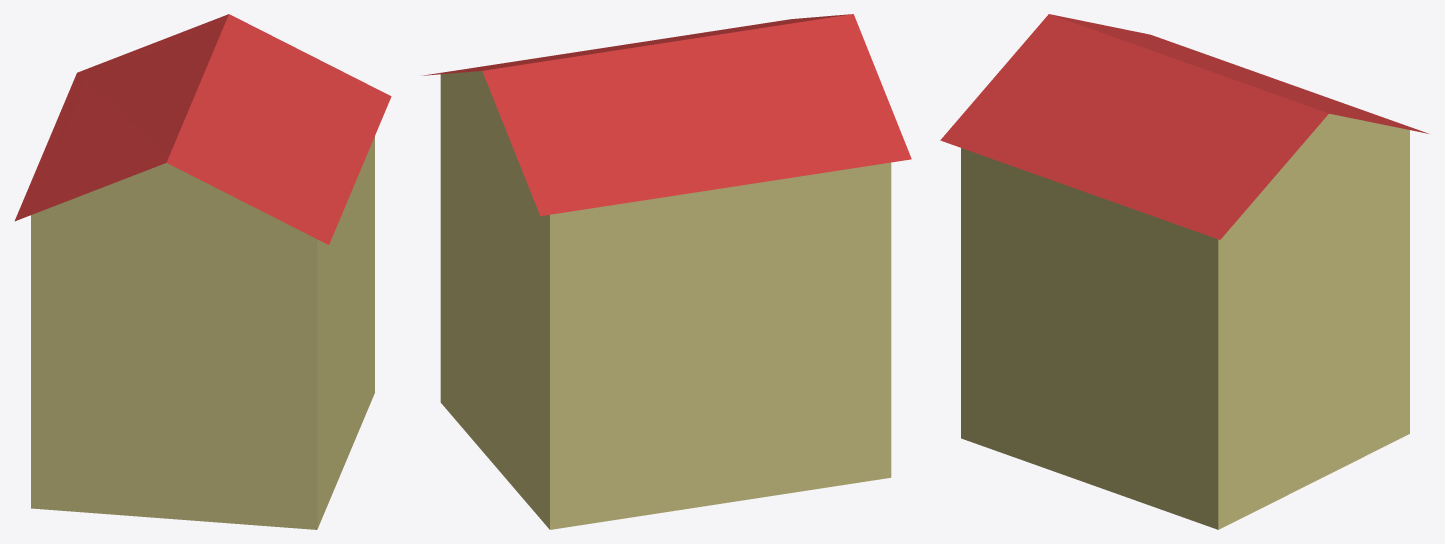
3 renders of one model, left to right at view 1: azimuth 30°, elevation 25°; view 2: azimuth 150°, elevation 25°; view 3: azimuth 270°, elevation 25°, orthographic. The views are drawn at different scales.
Size of the model in its own units: 8.2 by 8.28 by 6.9.
